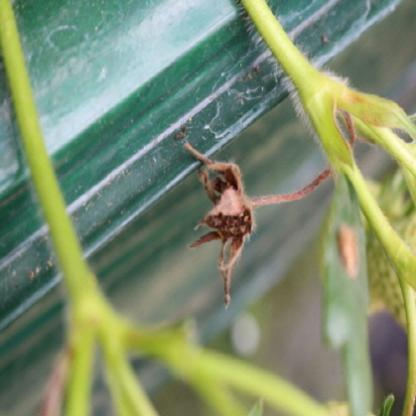Strawberry_Gray_Mold: (183, 145, 283, 308)
